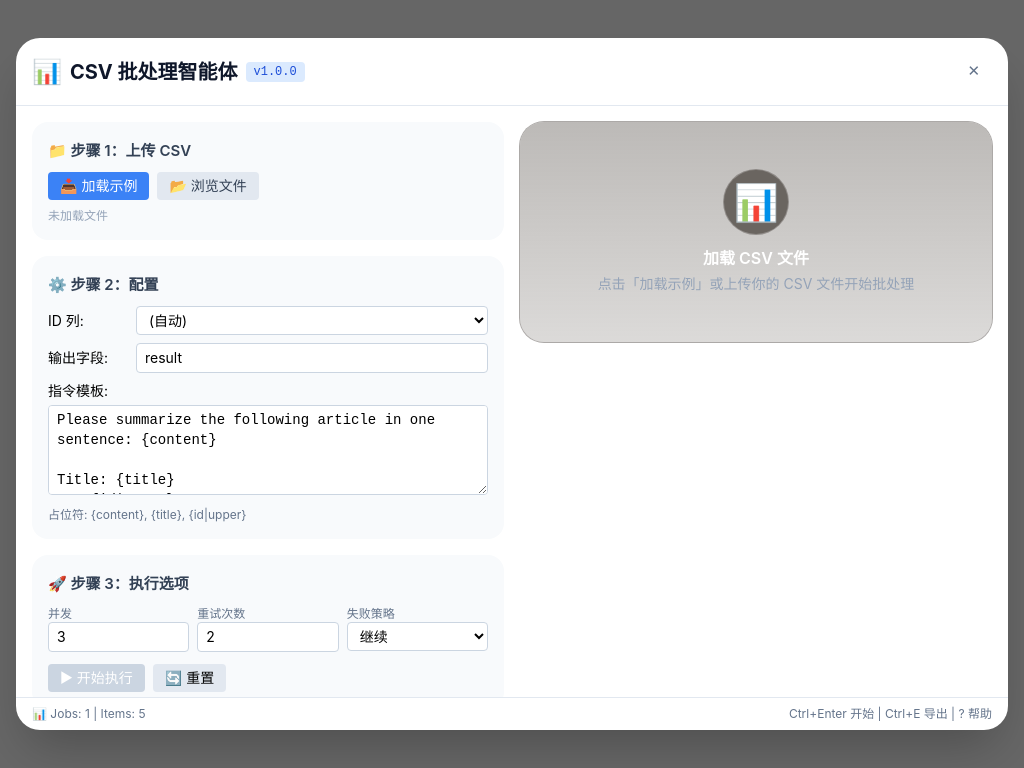
CsvBatchPanel › 加载示例后启动按钮启用
Click the button with test id "load-sample-btn" at (99, 186), box [48,172,149,200]
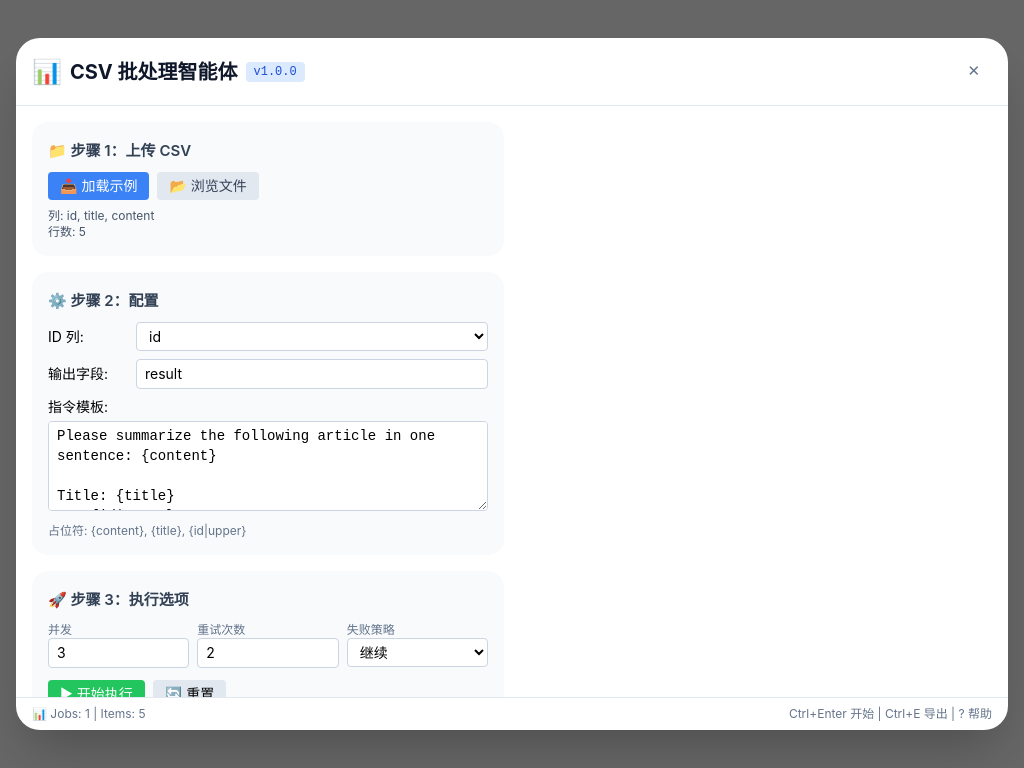
Result: the button with test id "start-btn" is enabled at [48,680,145,697]
